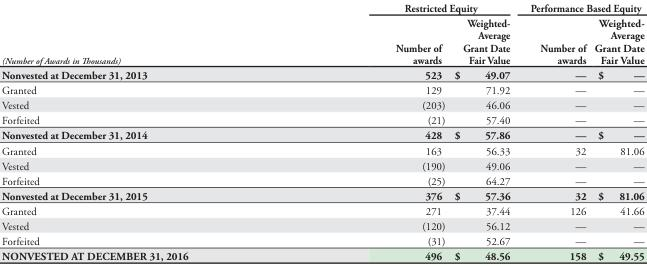table: (1, 1, 643, 262)
table column: (1, 1, 291, 262), (291, 1, 449, 262), (449, 1, 519, 262), (519, 1, 589, 262), (589, 1, 643, 262)
table column header: (1, 1, 643, 67)
table row: (1, 15, 643, 67), (1, 142, 643, 158), (1, 67, 643, 82), (1, 82, 643, 97), (1, 97, 643, 112), (1, 112, 643, 127), (1, 127, 643, 142), (1, 158, 643, 173), (1, 173, 643, 188), (1, 188, 643, 203), (1, 203, 643, 218), (1, 218, 643, 233), (1, 233, 643, 248), (1, 1, 643, 15), (1, 248, 643, 262)
table spanning cell: (1, 1, 291, 67), (291, 1, 519, 15), (519, 1, 643, 15)
